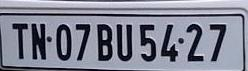0: (54, 23, 71, 60)
2: (183, 22, 203, 62)
4: (158, 23, 178, 62)
5: (137, 23, 156, 61)
7: (207, 22, 226, 62), (72, 22, 91, 60)
B: (95, 22, 113, 61)
N: (28, 22, 46, 60)
T: (10, 22, 27, 59)
U: (114, 22, 133, 61)
